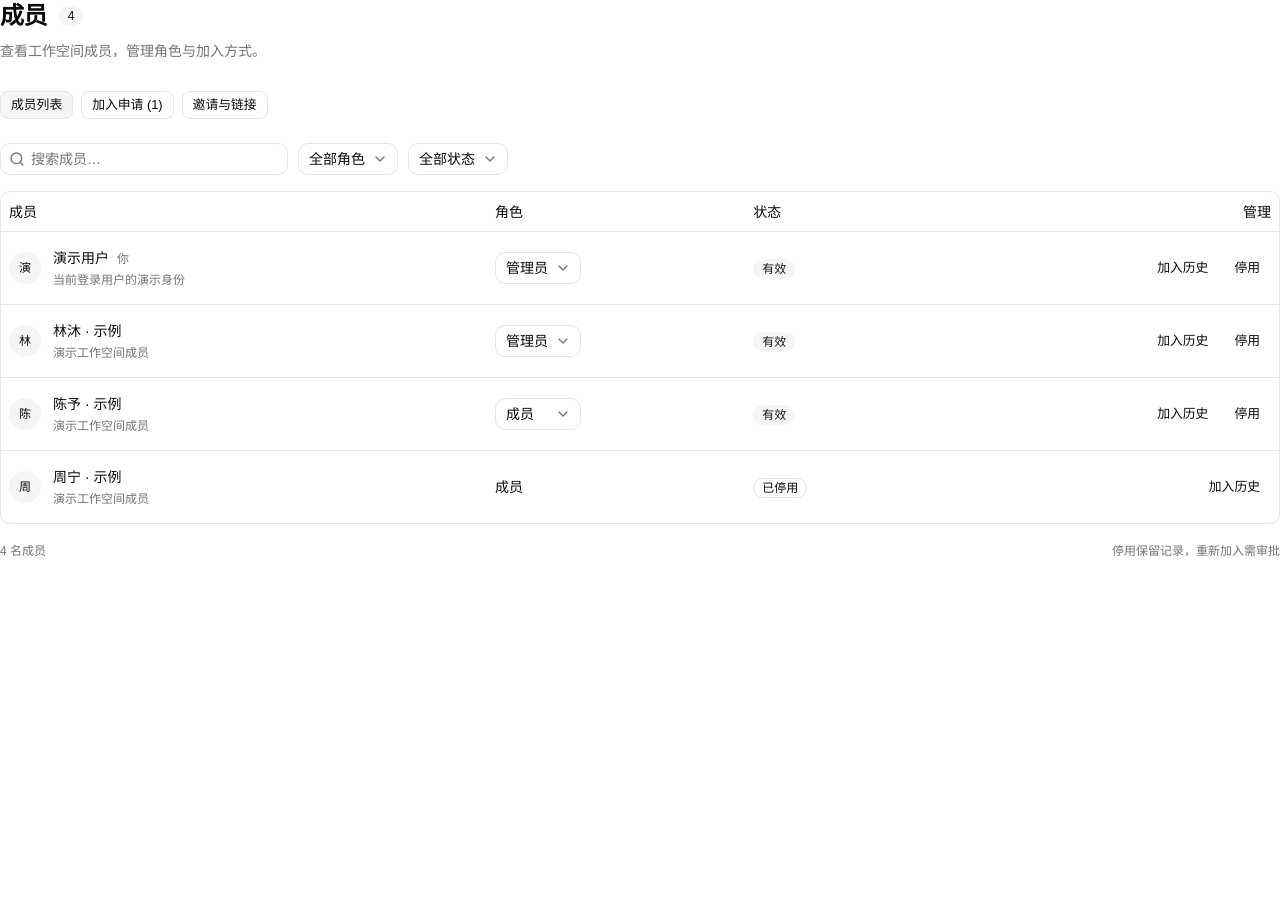
Scenario: approves an application and displays its provenance in the roster
Click the button "加入申请 (1)".
click(127, 105)  # box x1=81 y1=91 x2=174 y2=119
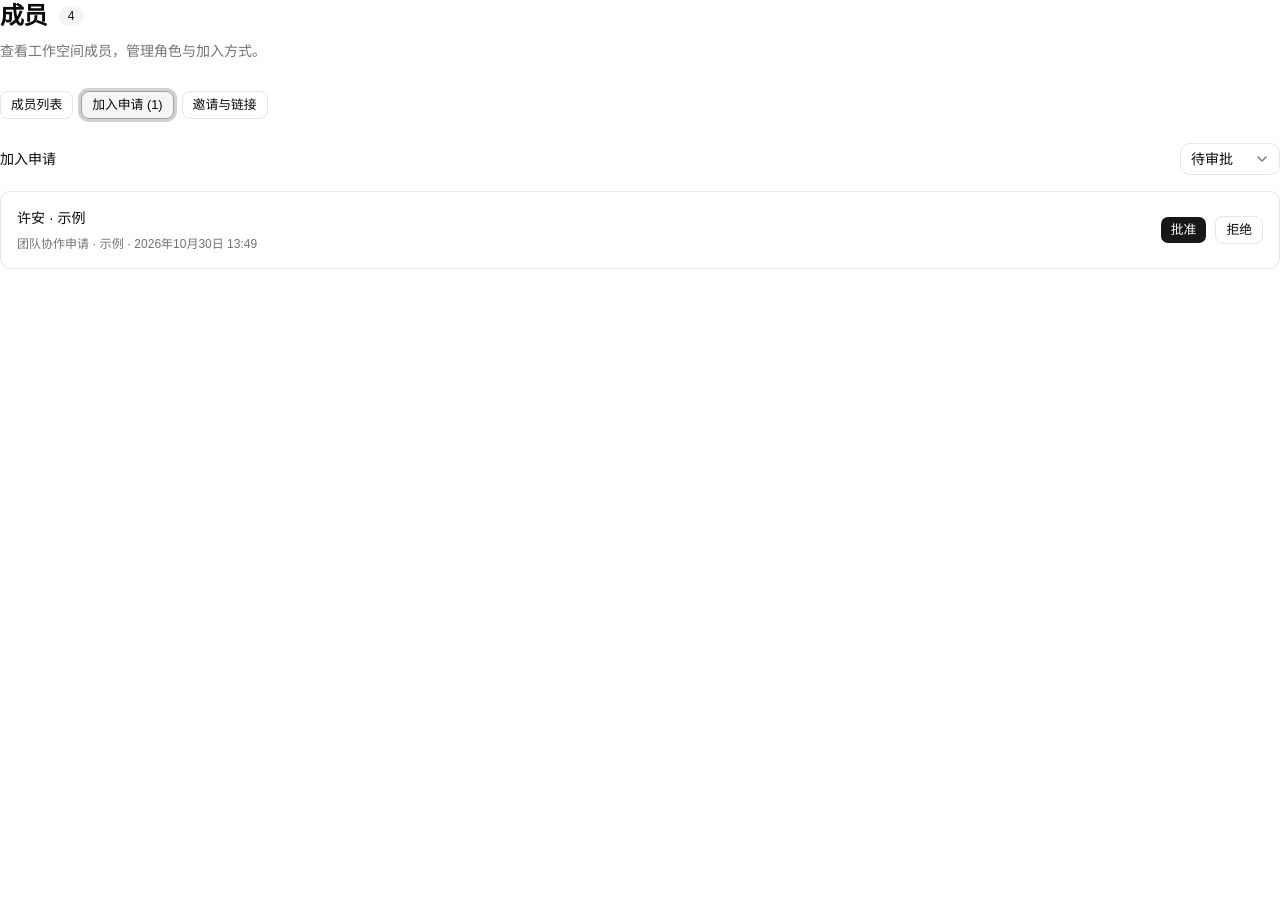
Click the button "批准".
click(1184, 230)  # box x1=1160 y1=216 x2=1207 y2=244
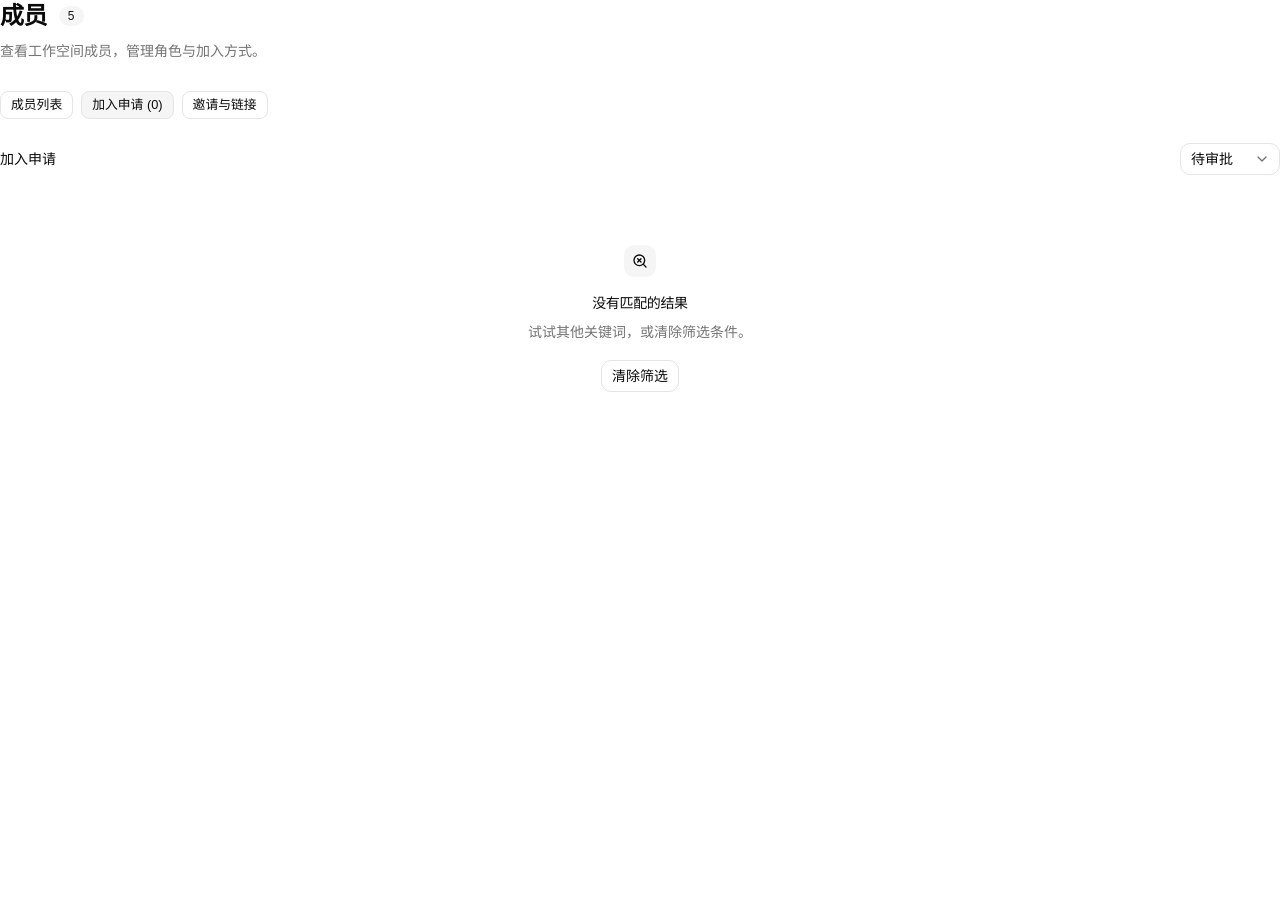
Expected: the button "批准" is gone
Click the button "成员列表".
click(37, 105)  # box x1=0 y1=91 x2=73 y2=119
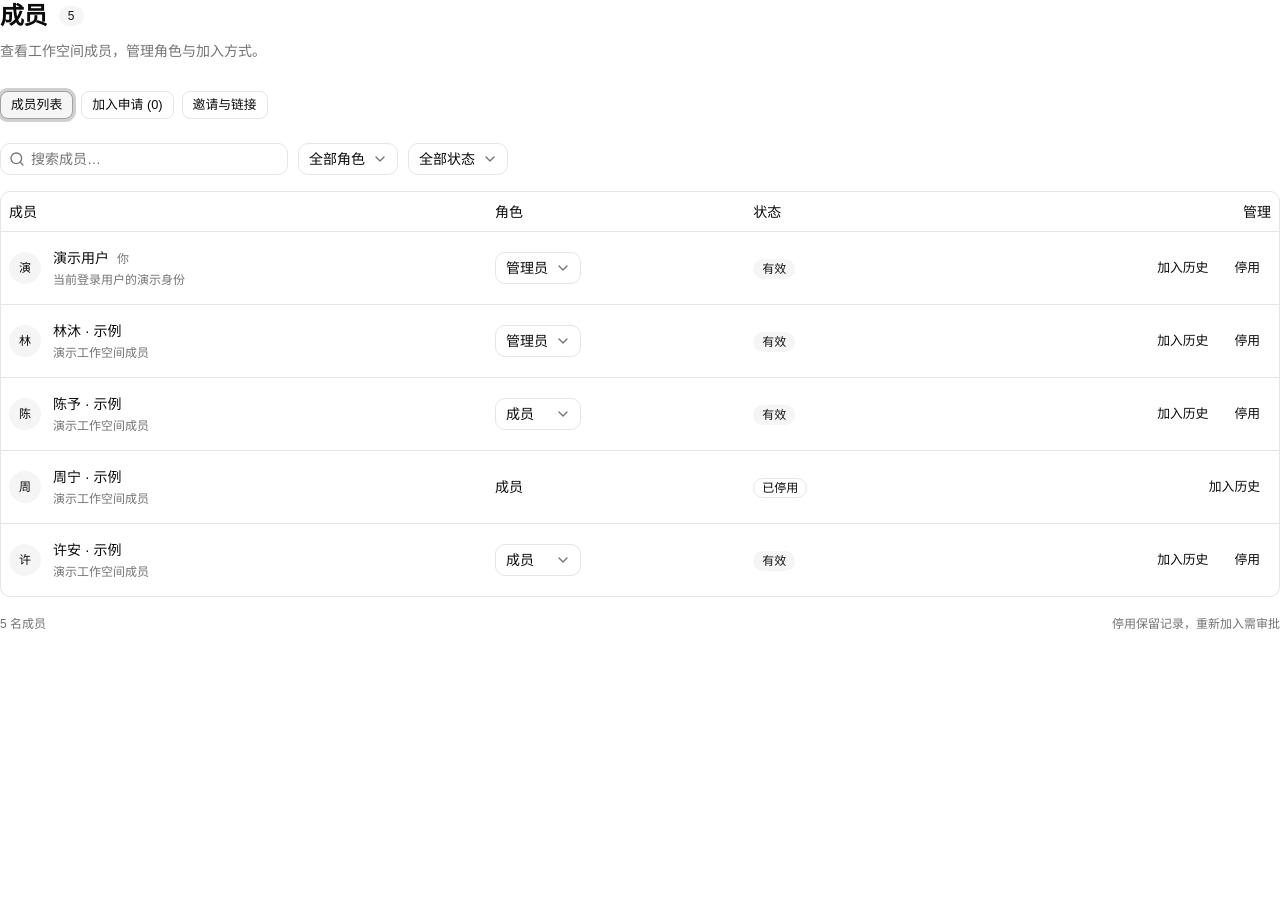
Click the button "加入历史" in the row of "许安 · 示例".
click(1183, 560)  # box x1=1146 y1=546 x2=1219 y2=574
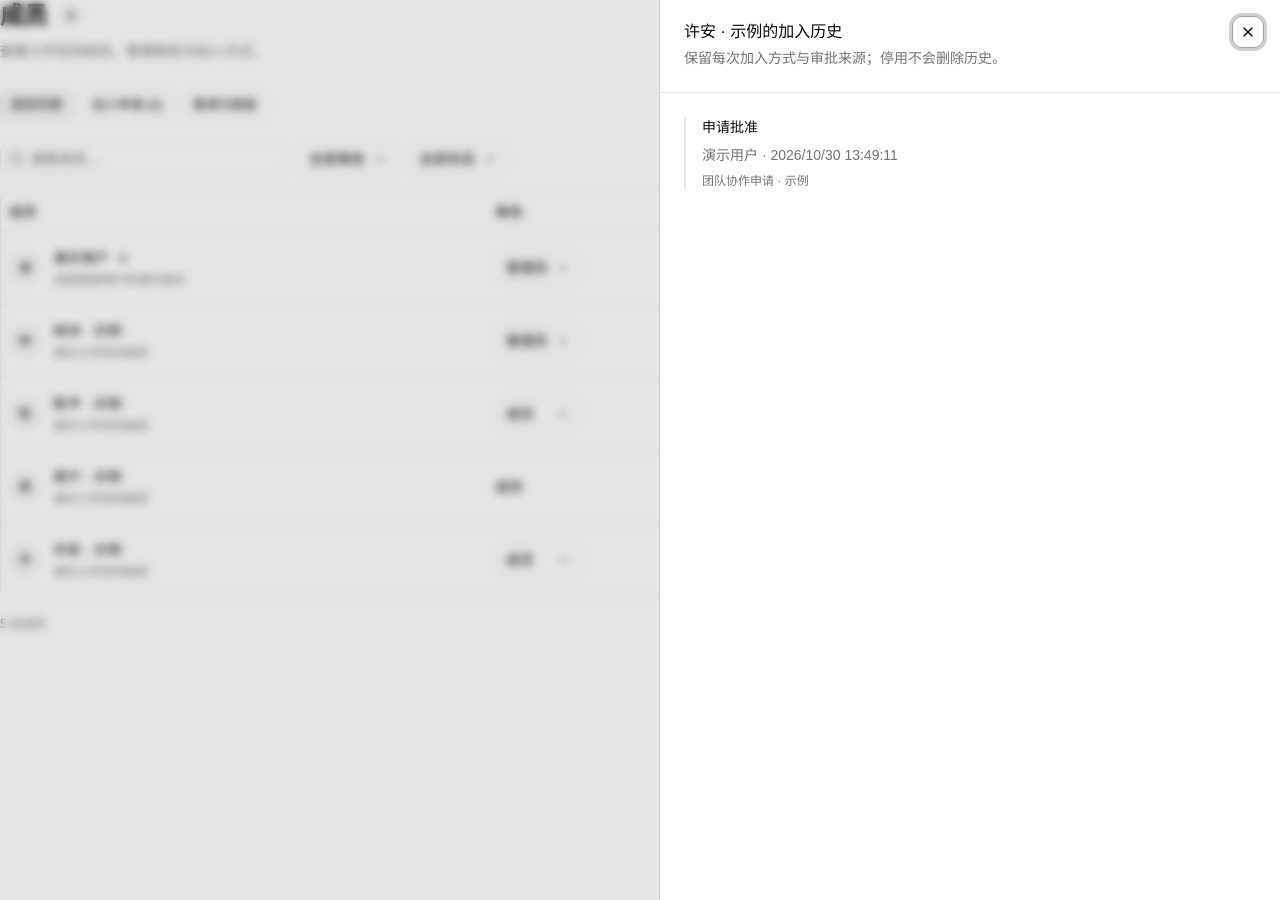
Expected: the dialog shows "申请批准", x1=702 y1=119 x2=758 y2=135
